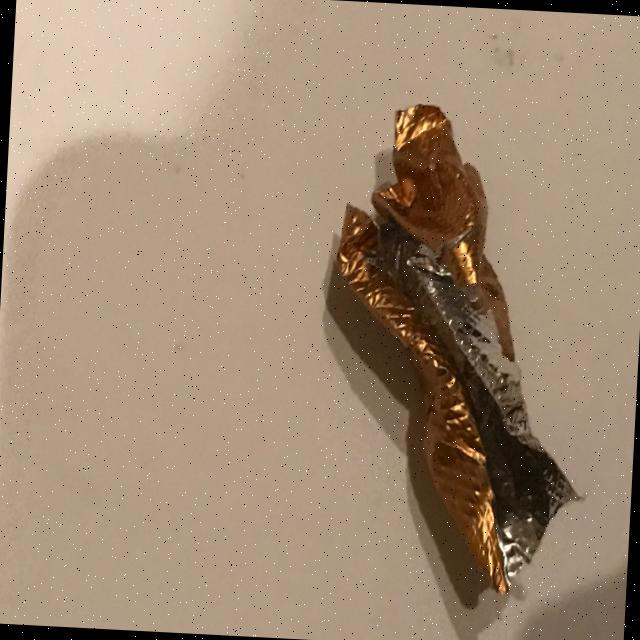metal: (266, 90, 624, 628)
